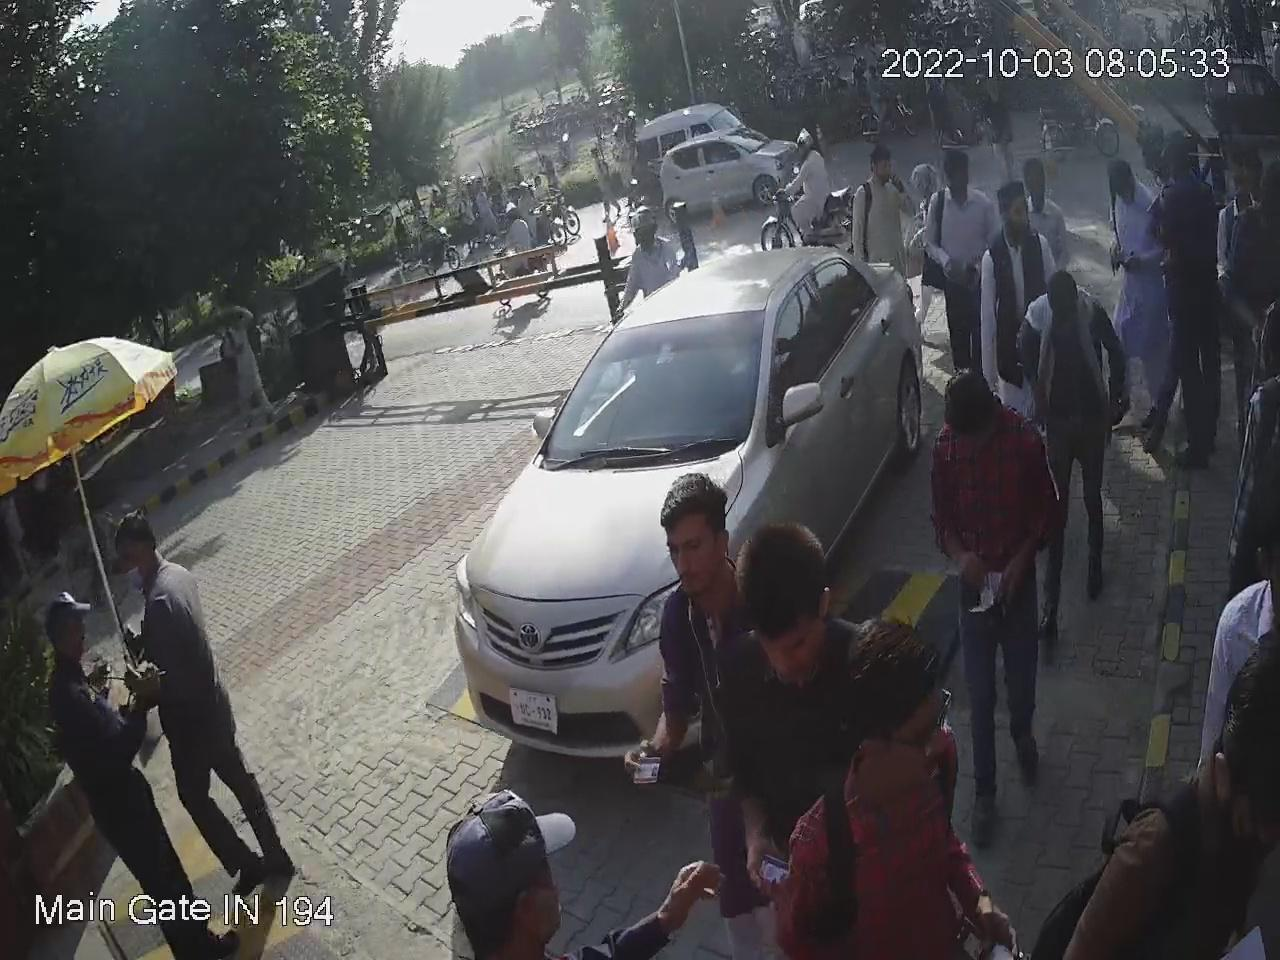windshield: (533, 297, 771, 460)
